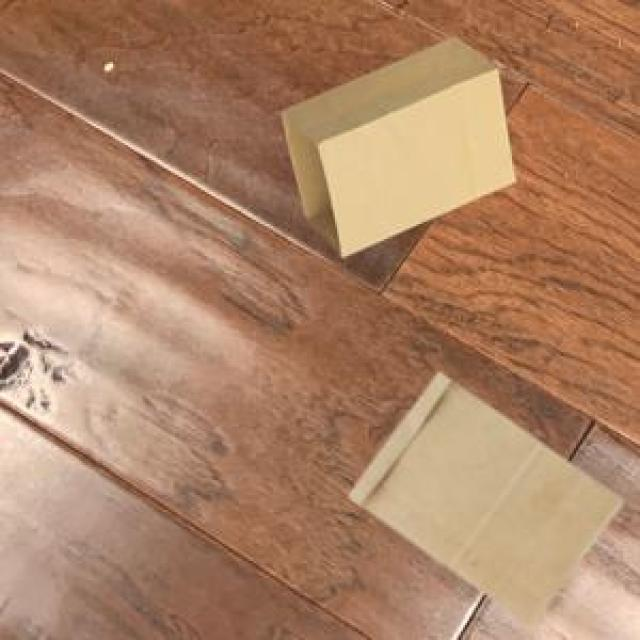paper: (346, 369, 619, 621), (277, 36, 512, 252)
